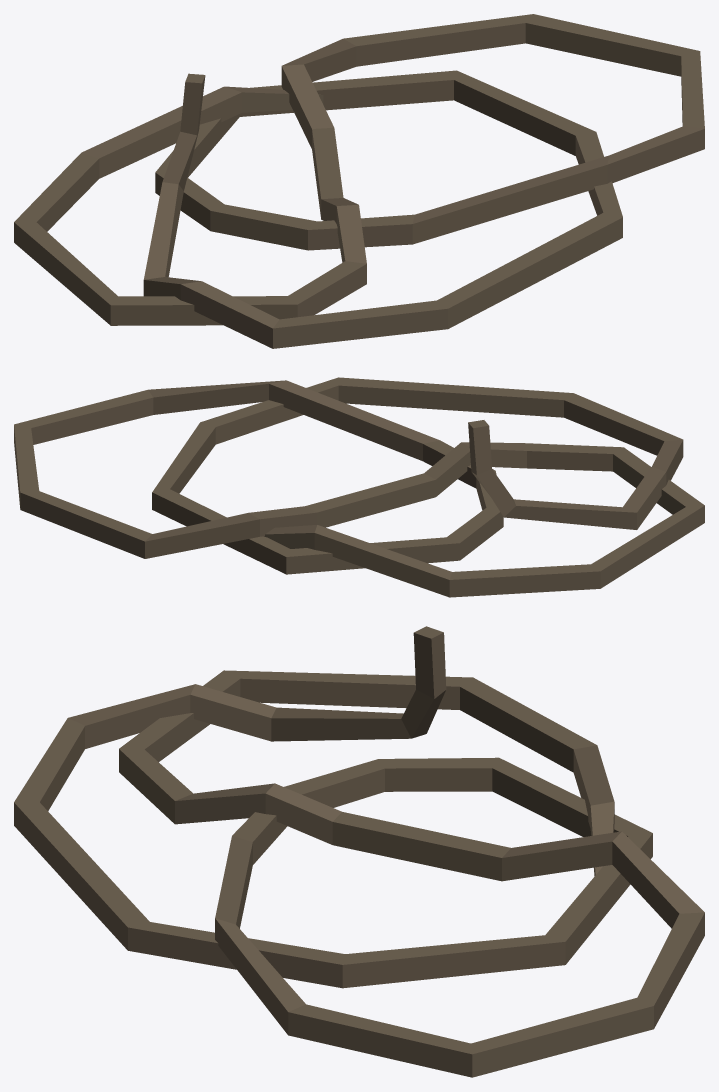
Rendered from SM_Prop_RopeSlide_01.glb.
The picture shows the model from 3 angles, top to bottom: view 1: azimuth 30°, elevation 25°; view 2: azimuth 150°, elevation 25°; view 3: azimuth 270°, elevation 25°; orthographic projection. The views are drawn at different scales.
Visible parts, largest first — view 1: SM_Prop_RopeSlide_01; view 2: SM_Prop_RopeSlide_01; view 3: SM_Prop_RopeSlide_01.
Part boxes in pixels (<box>): SM_Prop_RopeSlide_01: <box>14,14,704,348</box>; SM_Prop_RopeSlide_01: <box>14,377,704,597</box>; SM_Prop_RopeSlide_01: <box>14,626,704,1077</box>.
Bounding box in the file's own units: 1.31 × 0.2581 × 0.9841.
1 material, 1 textured.
